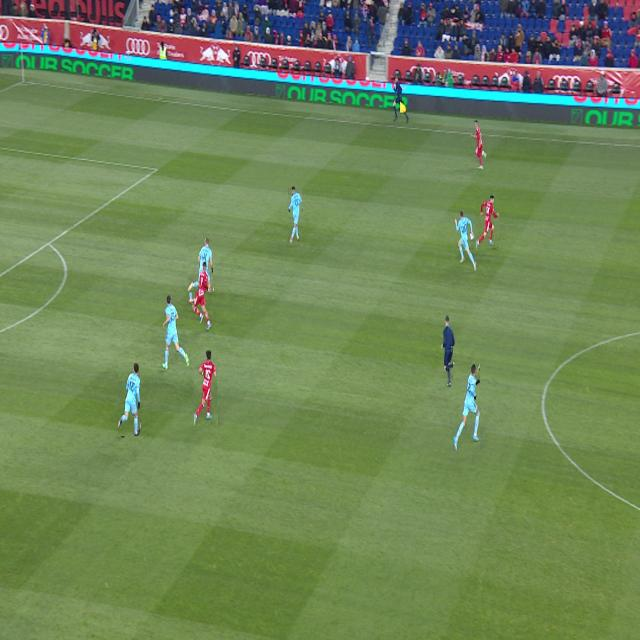football: (470, 232, 474, 240)
player: (454, 364, 480, 451), (162, 295, 190, 369), (194, 351, 217, 426), (119, 364, 140, 436), (454, 211, 477, 271), (191, 262, 211, 329), (189, 238, 213, 292), (476, 196, 499, 251), (471, 120, 487, 169), (289, 186, 302, 244), (189, 290, 194, 303), (212, 271, 213, 273)
referee: (441, 315, 457, 386)
